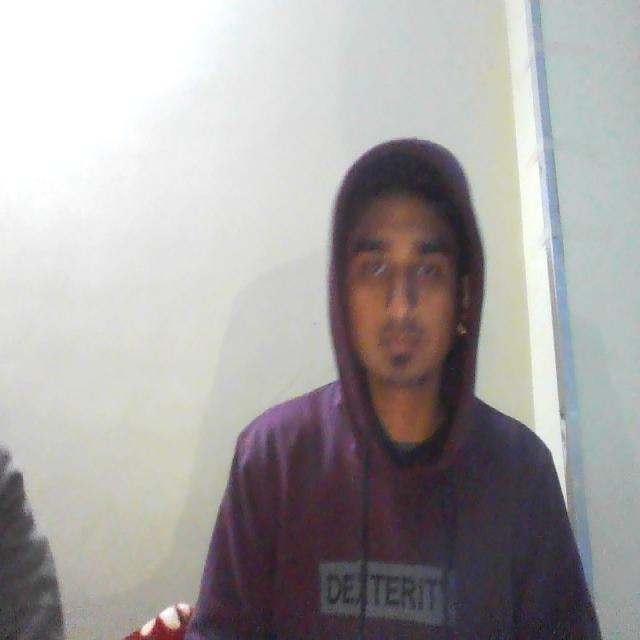real: (332, 138, 478, 414)
